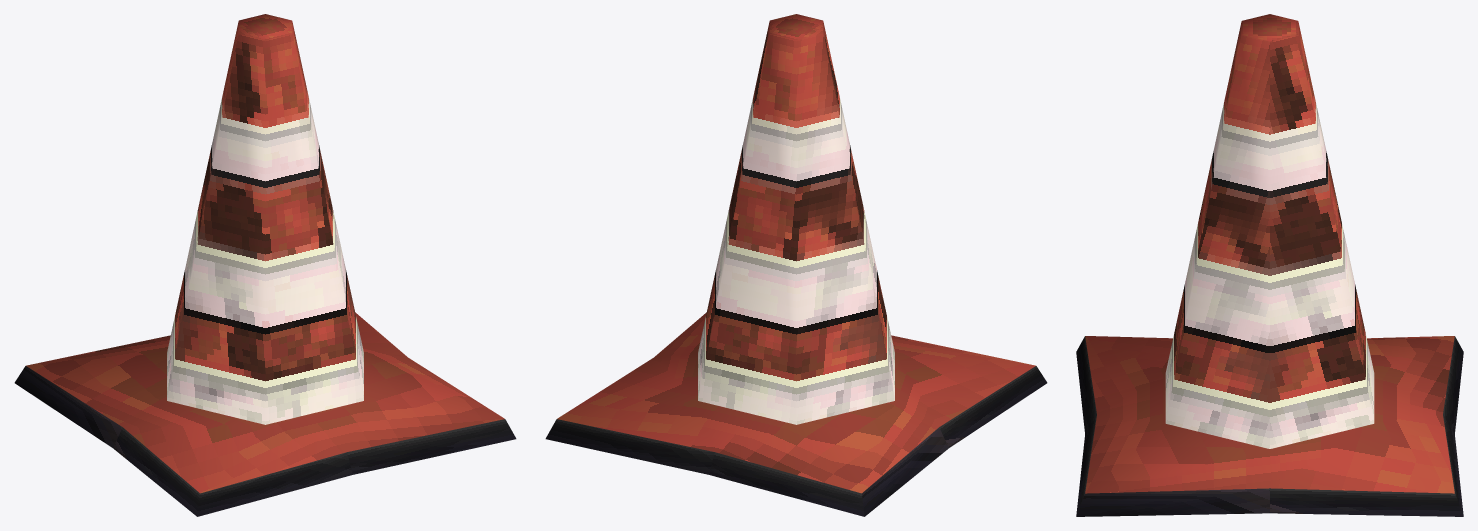
File: Traffic_Cone_Quad.fbx
3 views of the same model, side by side, from view 1: azimuth 30°, elevation 25°; view 2: azimuth 150°, elevation 25°; view 3: azimuth 270°, elevation 25° (orthographic). The views are drawn at different scales.
Visible parts, largest first — view 1: Traffic_Cone_ver_02; view 2: Traffic_Cone_ver_02; view 3: Traffic_Cone_ver_02.
Boxes of the visible parts, x1,y1,x2,y2 form: Traffic_Cone_ver_02: [14, 14, 516, 516]; Traffic_Cone_ver_02: [545, 14, 1047, 516]; Traffic_Cone_ver_02: [1076, 14, 1463, 516].
Bounding box in the file's own units: 44.47 × 51.11 × 44.15.
